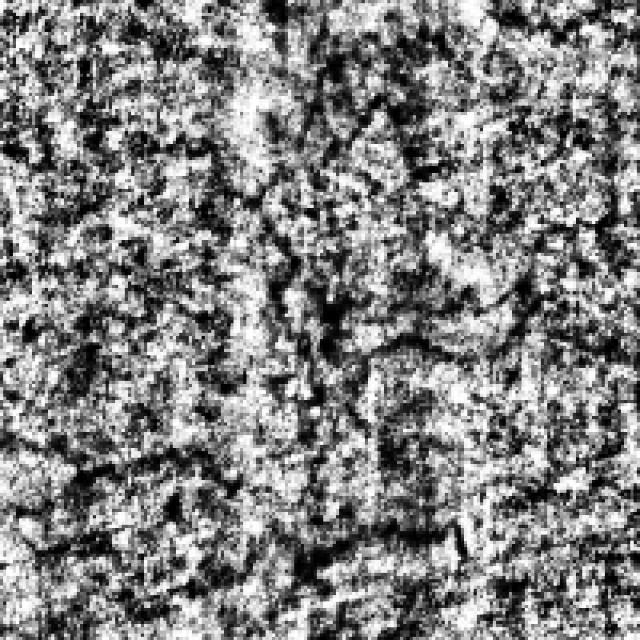Pitted_Surface: (246, 58, 566, 416), (6, 371, 464, 618)
